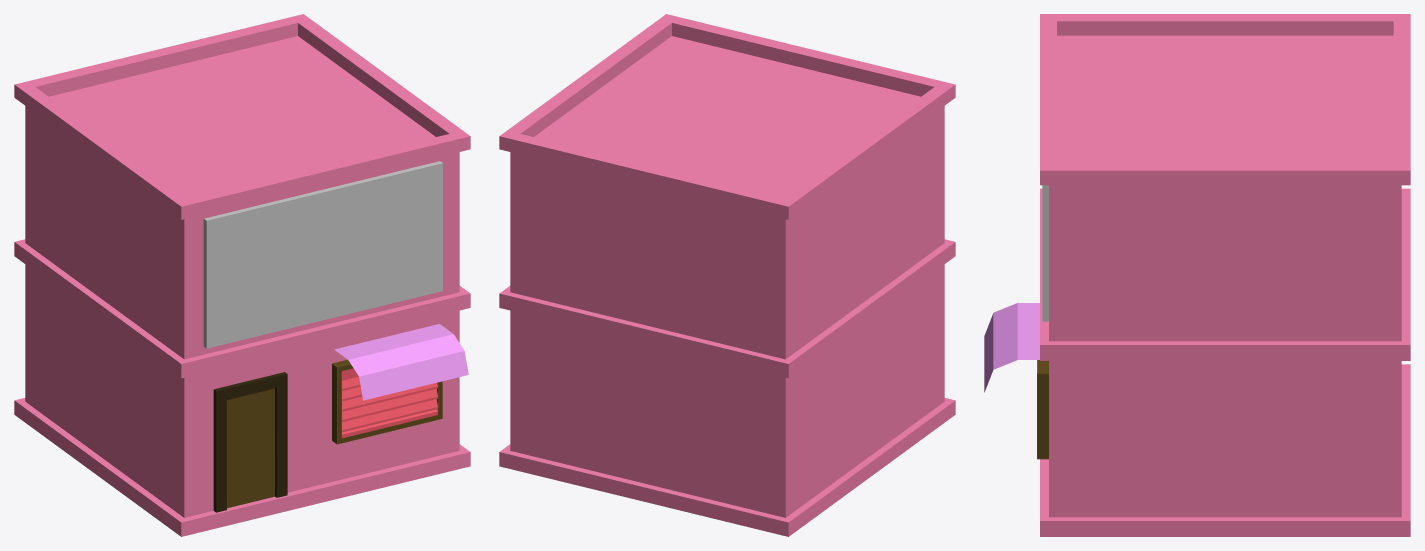
The model's file is 3 Building.fbx.
The picture shows the model from 3 angles, left to right: view 1: azimuth 30°, elevation 25°; view 2: azimuth 150°, elevation 25°; view 3: azimuth 270°, elevation 25°; orthographic projection. The views are drawn at different scales.
Parts seen in each view (by area): view 1: Smol2, Sign2, Store Counter, Normal Door; view 2: Smol2; view 3: Smol2, Store Counter, Sign2.
Boxes of the visible parts, bbox=[...] form: Smol2: bbox=[14, 14, 470, 536]; Sign2: bbox=[203, 161, 442, 348]; Store Counter: bbox=[332, 324, 468, 444]; Normal Door: bbox=[213, 372, 287, 512]; Smol2: bbox=[499, 14, 955, 536]; Smol2: bbox=[1040, 14, 1410, 536]; Store Counter: bbox=[984, 303, 1048, 459]; Sign2: bbox=[1042, 185, 1048, 321].
Bounding box in the file's own units: 420 × 458 × 483.
